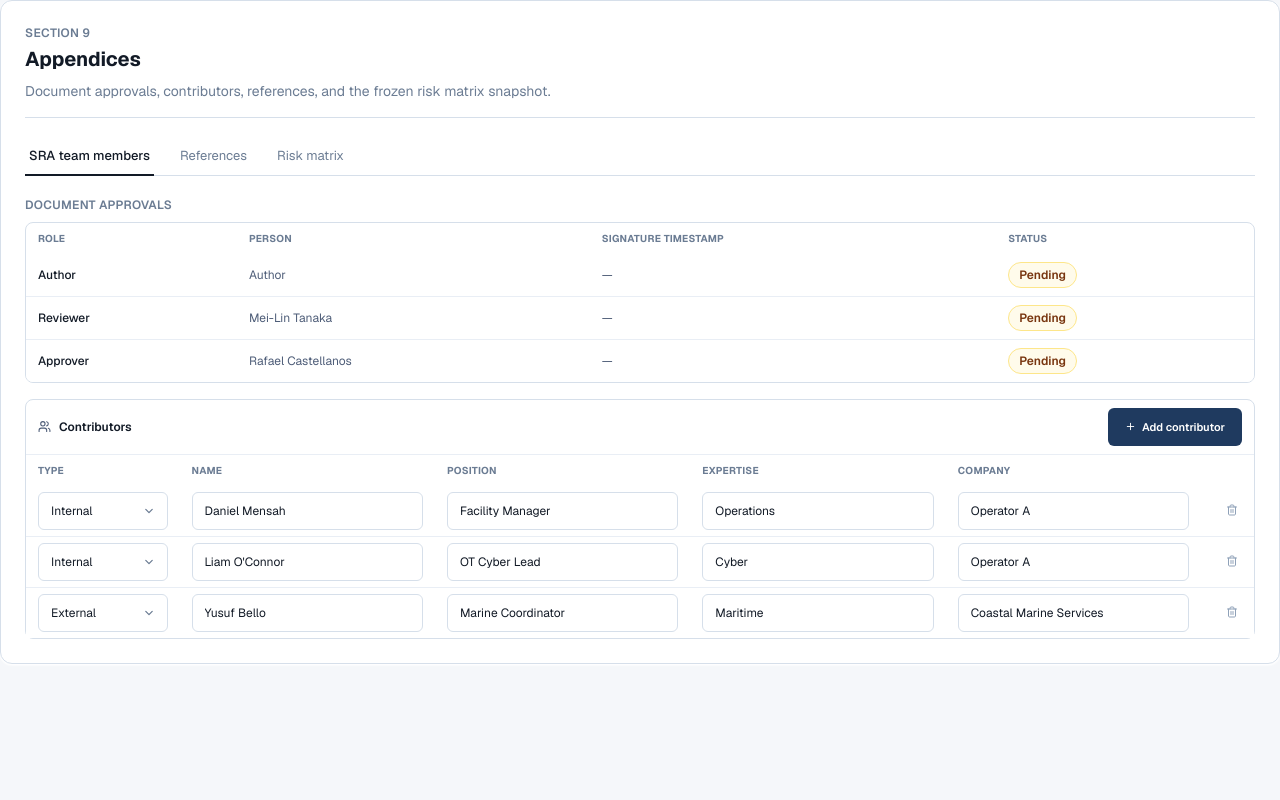
Scenario: prod mode (VITE_ENABLE_DEMO=false) › a 409 renders the exact reload affordance
Click the button "Add contributor" at (1175, 426), box left=1108, top=408, right=1242, bottom=446
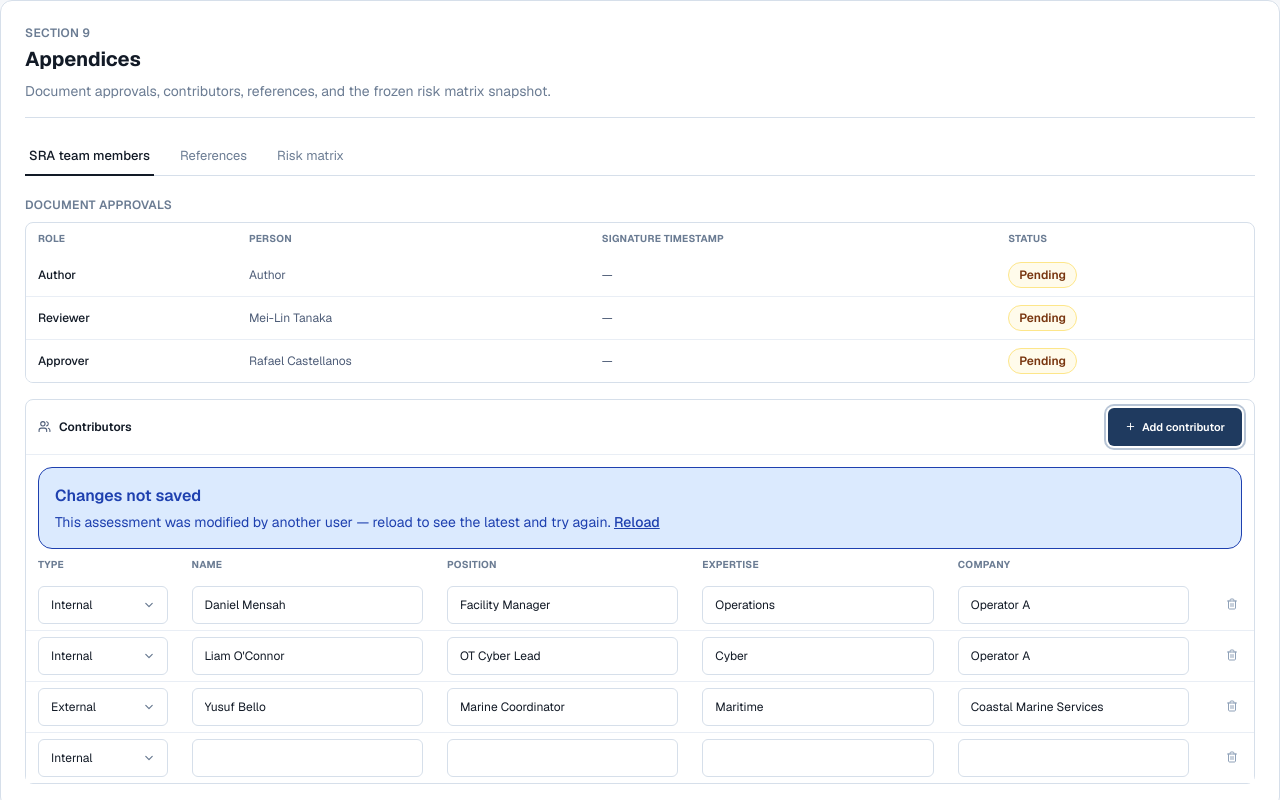
Check: the text "This assessment was modified by another user — reload to see the latest and try again." is shown, box left=55, top=512, right=610, bottom=530
Check: the button "Reload" is shown, box left=614, top=512, right=660, bottom=532
